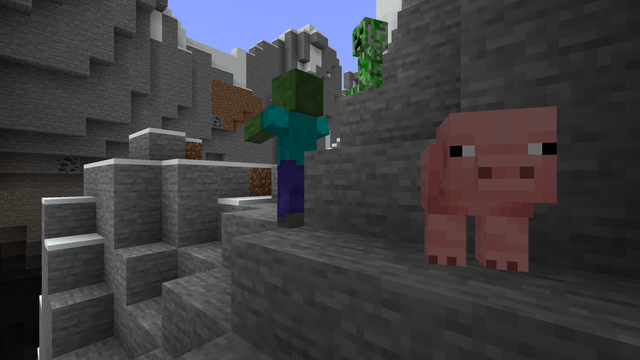cochons: (389, 135, 527, 279)
creepers: (348, 9, 390, 91)
zombies: (266, 69, 328, 230)
